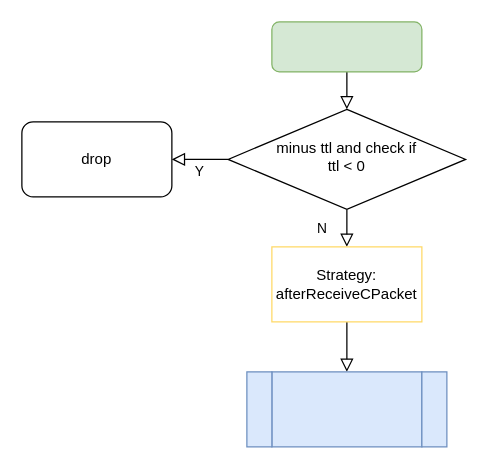
The diagram is 488 pixels wide and 469 high, and some of its shapes have lost their labels. The shapes that lost their labels are listed below. From the top down, each one's box as (x1, y1, x2, y2) in pixels, then its label:
(271, 21, 422, 72): receive CPacket
(271, 371, 422, 447): outgoing CPacket
